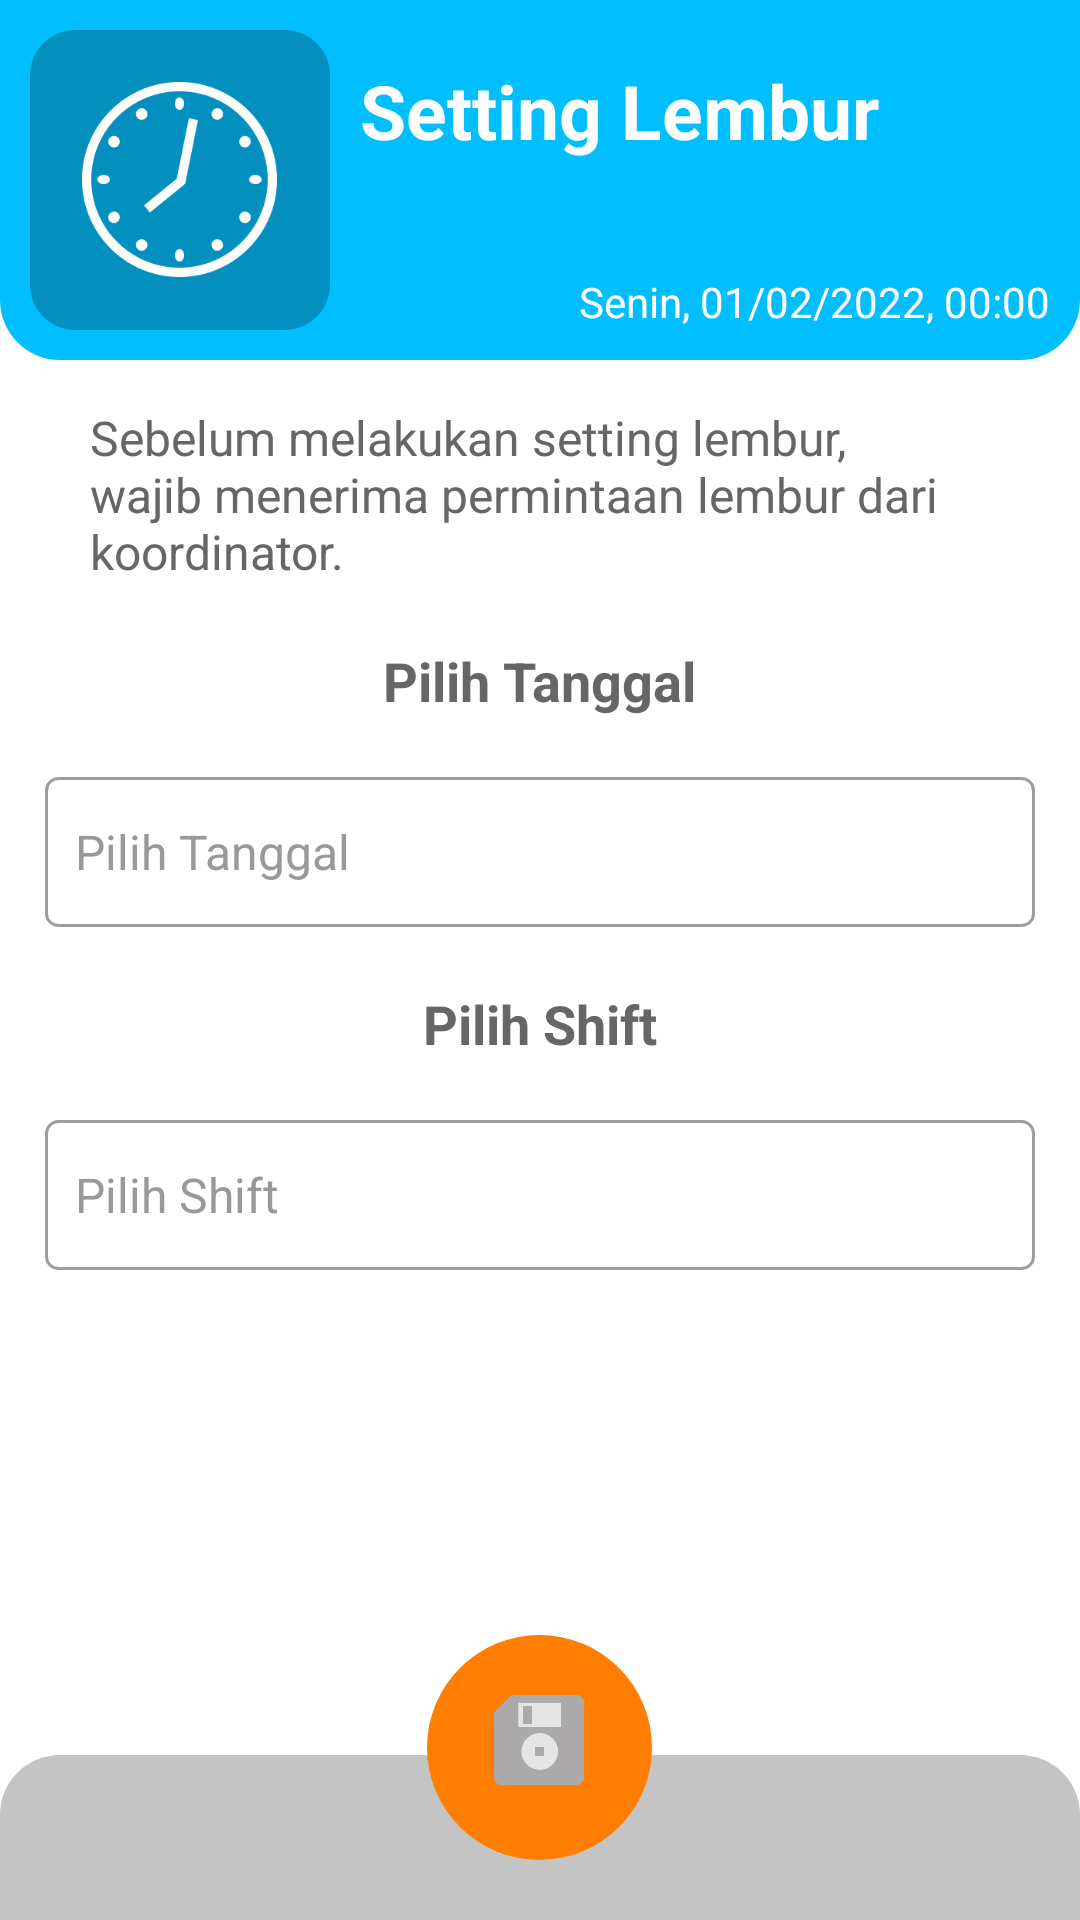

Where icons sit on this 1080x1920 app screen, as (x1=x1, y1=y1, x2=x2, y2=y2):
save: (x1=494, y1=1695, x2=584, y2=1785)
